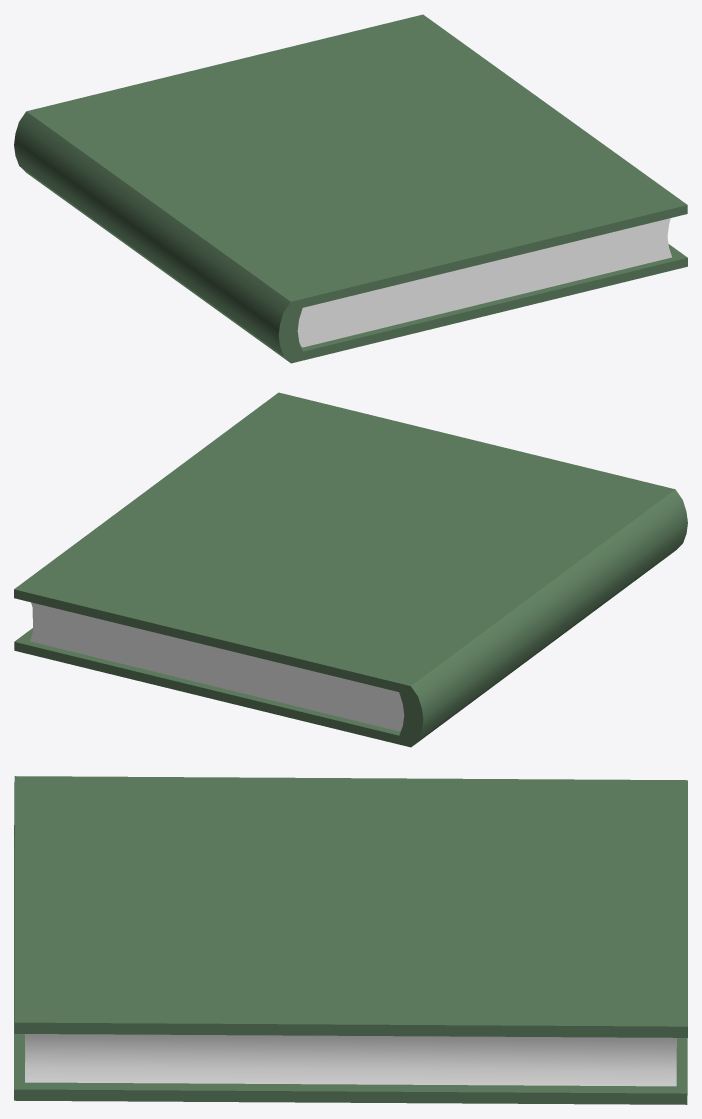
File: greenbook.fbx
The picture shows the model from 3 angles, top to bottom: view 1: azimuth 30°, elevation 25°; view 2: azimuth 150°, elevation 25°; view 3: azimuth 270°, elevation 25°; orthographic projection. The views are drawn at different scales.
Parts seen in each view (by area): view 1: polySurface15; view 2: polySurface15; view 3: polySurface15.
Part boxes in pixels (x1=…): polySurface15: x1=14, y1=14, x2=687, y2=363; polySurface15: x1=14, y1=392, x2=687, y2=747; polySurface15: x1=14, y1=776, x2=687, y2=1104.
Bounding box in the file's own units: 0.00277 × 0.000419 × 0.00311.
Materials: 1 (1 with a texture image).
